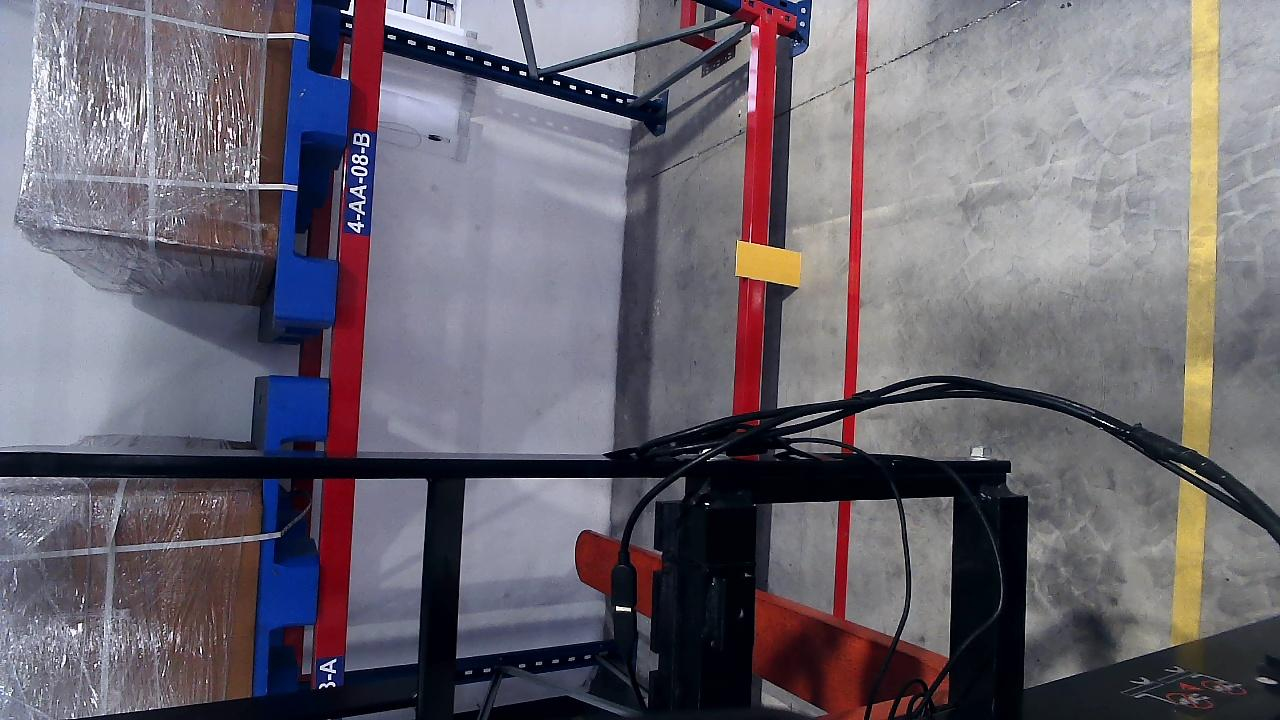h_rack: (322, 0, 390, 680), (739, 15, 781, 405)
orange_strip: (735, 241, 801, 287)
red_line: (843, 3, 868, 396)
small_pallet: (270, 0, 368, 319), (254, 375, 329, 695)
yellow_line: (1180, 5, 1221, 632)
